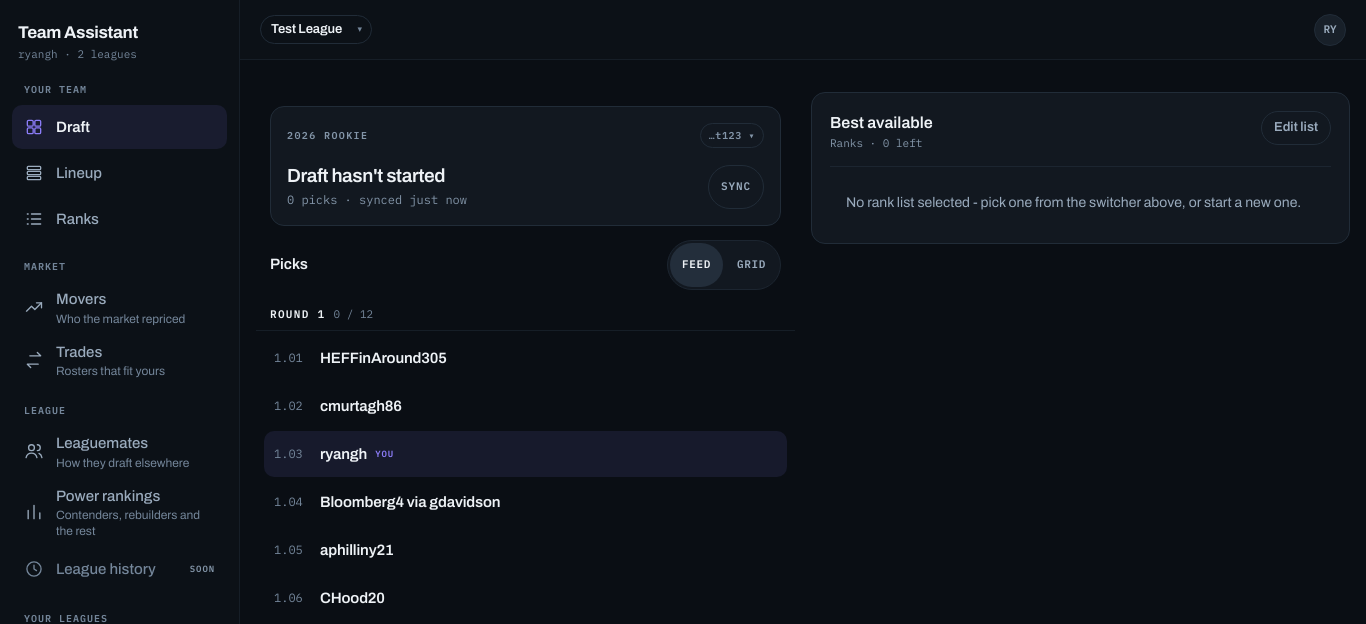
it: App › replaces the panels rather than leaving a board that disagrees with the dropdown
This screenshot has width=1366, height=624.
Select "Other League" in the dropdown showing "Test League" at (316,30), box [260,15,372,44]
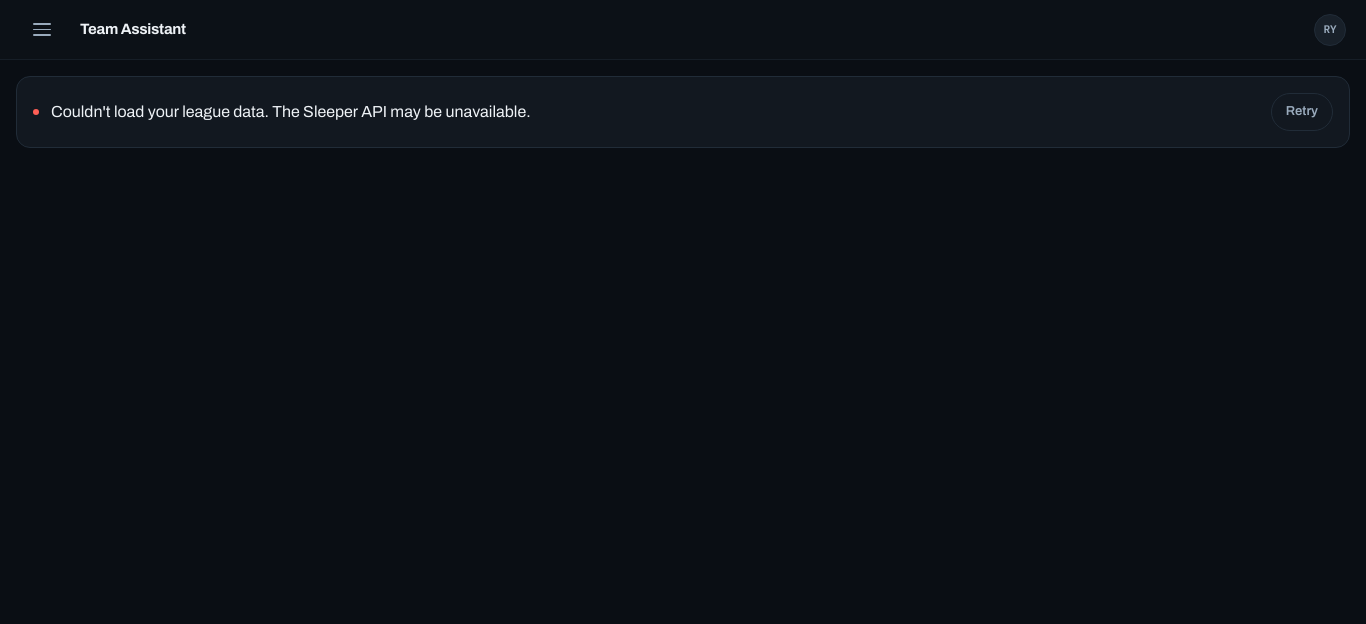
Result: the message "Couldn't load your league data. The Sleeper API may be unavailable. Retry" is shown at [16,76,1350,148]
